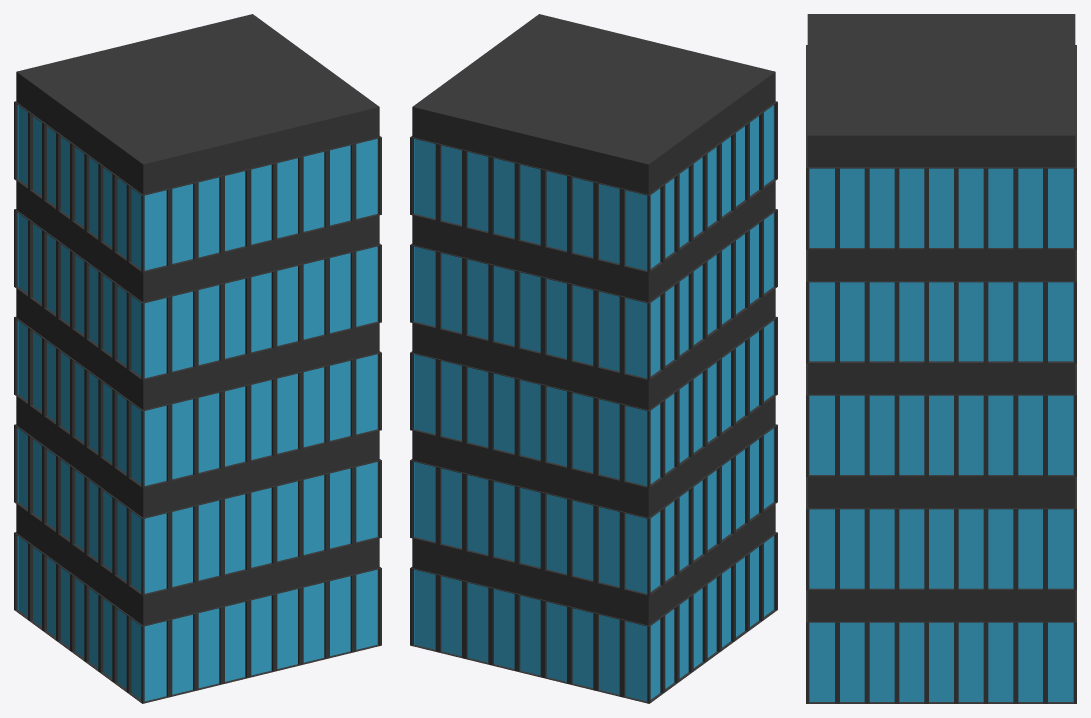
Rendered from TopBuilding.fbx.
The picture shows the model from 3 angles, left to right: view 1: azimuth 30°, elevation 25°; view 2: azimuth 150°, elevation 25°; view 3: azimuth 270°, elevation 25°; orthographic projection. The views are drawn at different scales.
Visible parts, largest first — view 1: TopBlock; view 2: TopBlock; view 3: TopBlock.
Part boxes in pixels (x1,y1,x2,y2): TopBlock: [14, 14, 381, 703]; TopBlock: [410, 14, 777, 703]; TopBlock: [806, 14, 1076, 703].
Size of the model in its own units: 984 by 2115 by 914.
